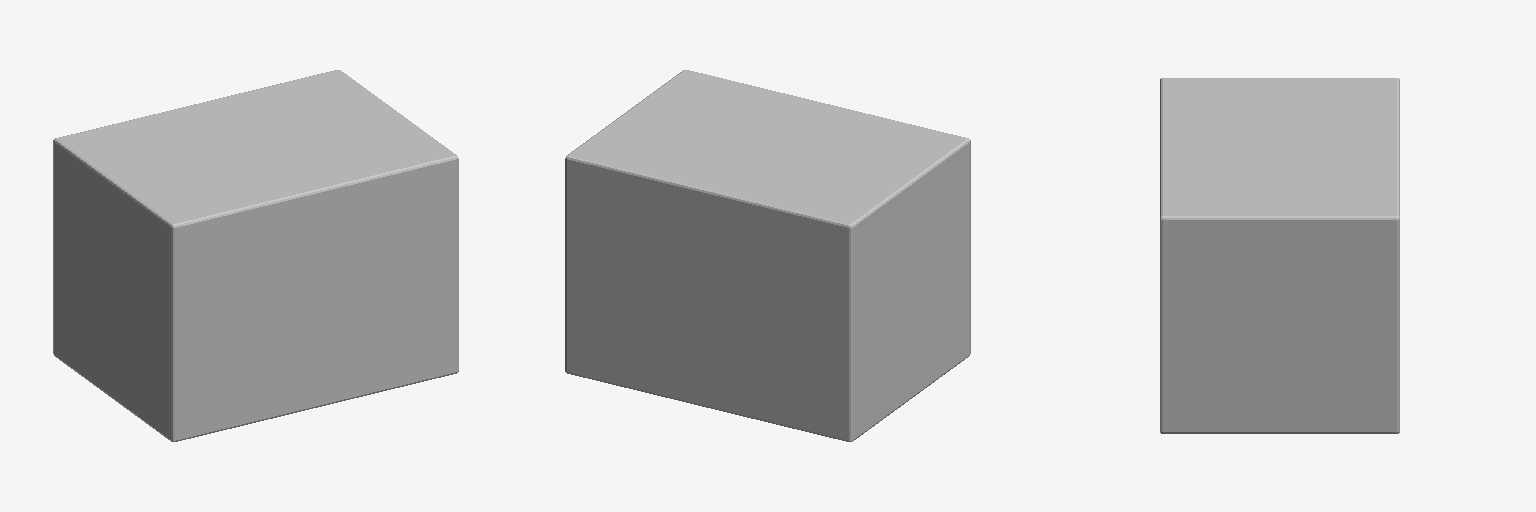
The model's file is BoxL.obj.
3 renders of one model, left to right at view 1: azimuth 30°, elevation 25°; view 2: azimuth 150°, elevation 25°; view 3: azimuth 270°, elevation 25°, orthographic.
Visible parts, largest first — view 1: 290x290x400_1; view 2: 290x290x400_1; view 3: 290x290x400_1.
Part boxes in pixels (x1,y1,x2,y2): 290x290x400_1: (53,70,458,441); 290x290x400_1: (565,70,970,441); 290x290x400_1: (1160,78,1399,433).
Size of the model in its own units: 40 by 29 by 29.